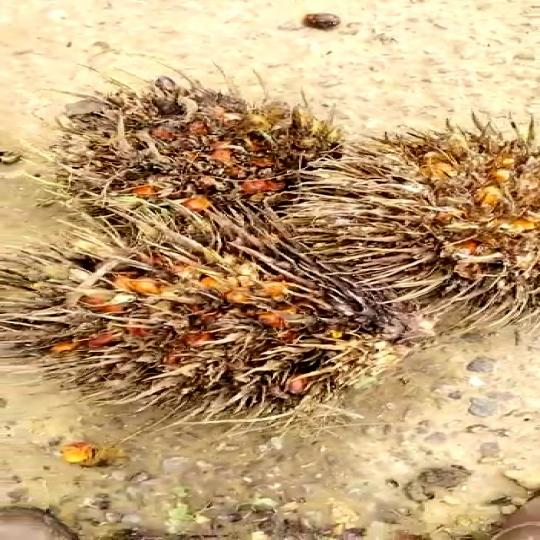terlalu masak: (0, 216, 365, 412), (26, 88, 351, 240), (306, 128, 540, 313)
